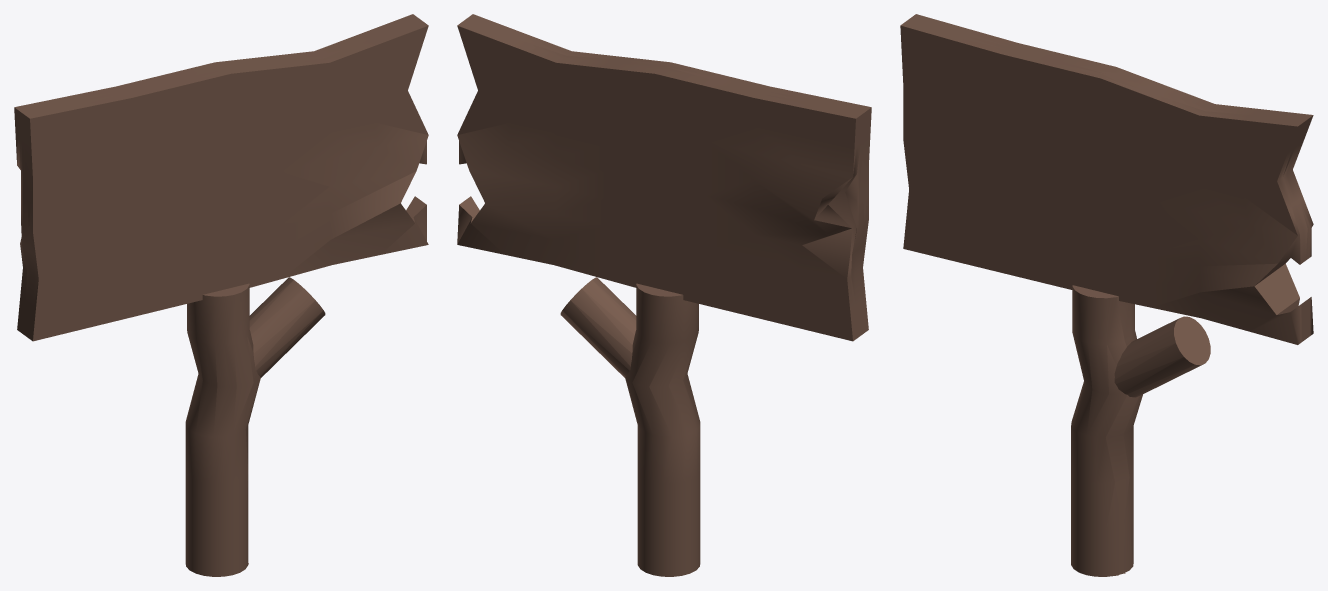
Rendered from SQ_Object_Sign.fbx.
3 renders of one model, left to right at view 1: azimuth 30°, elevation 25°; view 2: azimuth 150°, elevation 25°; view 3: azimuth 330°, elevation 25°, orthographic.
Visible parts, largest first — view 1: pCylinder3; view 2: pCylinder3; view 3: pCylinder3.
Boxes of the visible parts, left/top/right/bottom form: pCylinder3: left=14, top=14, right=428, bottom=576; pCylinder3: left=457, top=14, right=871, bottom=576; pCylinder3: left=900, top=14, right=1313, bottom=576.
Bounding box in the file's own units: 14.59 × 17.42 × 2.
